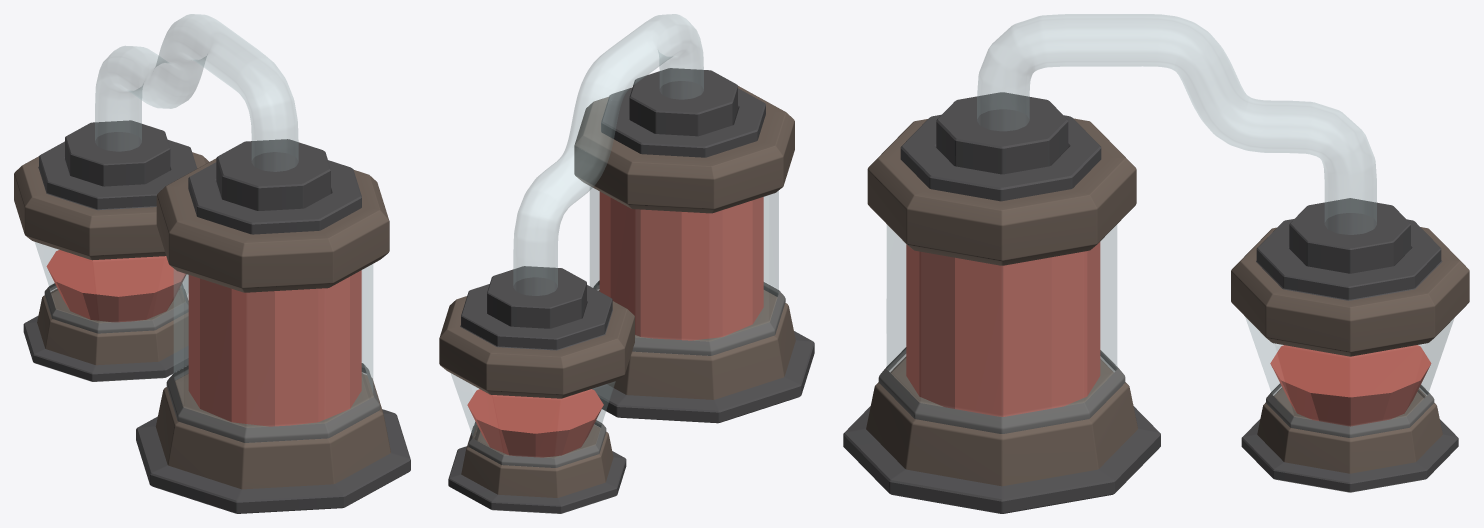
The model's file is ElixertankRayen.fbx.
The picture shows the model from 3 angles, left to right: view 1: azimuth 30°, elevation 25°; view 2: azimuth 150°, elevation 25°; view 3: azimuth 270°, elevation 25°; orthographic projection. The views are drawn at different scales.
Visible parts, largest first — view 1: polySurface3308; view 2: polySurface3308; view 3: polySurface3308.
Boxes of the visible parts, x1=… form: polySurface3308: x1=14, y1=14, x2=410, y2=513; polySurface3308: x1=439, y1=14, x2=814, y2=513; polySurface3308: x1=843, y1=14, x2=1469, y2=513.
Size of the model in its own units: 1.05 by 1.57 by 2.06.
